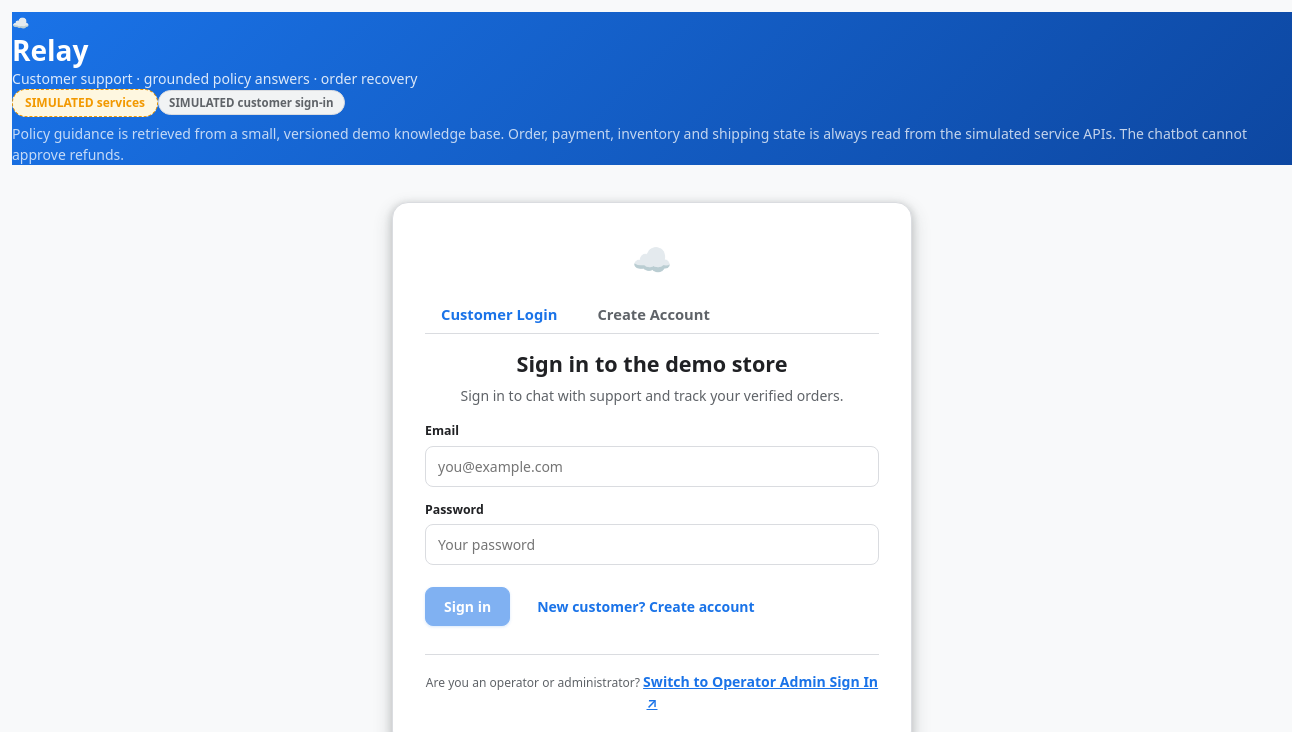
Test case: SupportApp › signs in through the simulated customer session, chats, and receives response
Expected: the heading "Sign in to the demo store" is shown, left=517, top=349, right=788, bottom=378
Type "alice@example.test" into the field labelled "Email" at {"x": 652, "y": 466}, box left=425, top=446, right=879, bottom=487
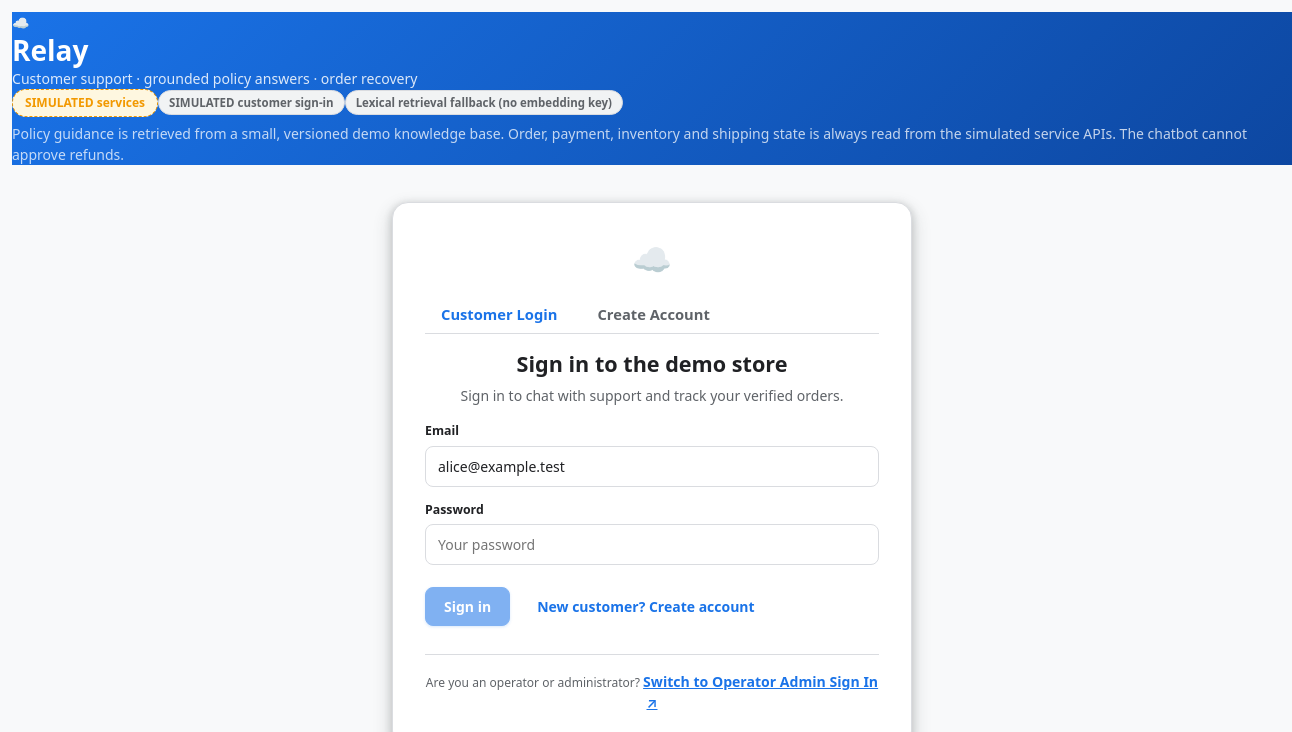
Type "demo-alice" into the password field labelled "Password" at {"x": 652, "y": 545}, box left=425, top=524, right=879, bottom=565
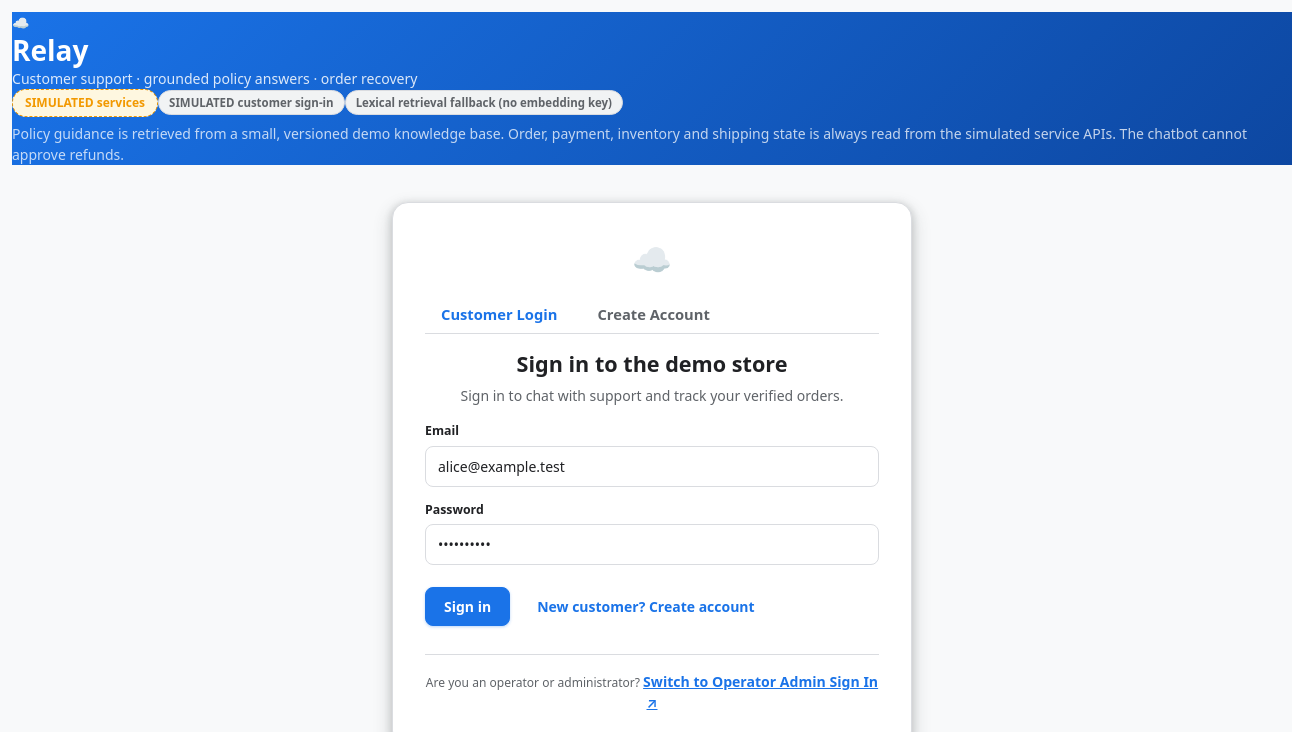
Click the button "Sign in" at {"x": 468, "y": 607}, box left=425, top=587, right=510, bottom=626
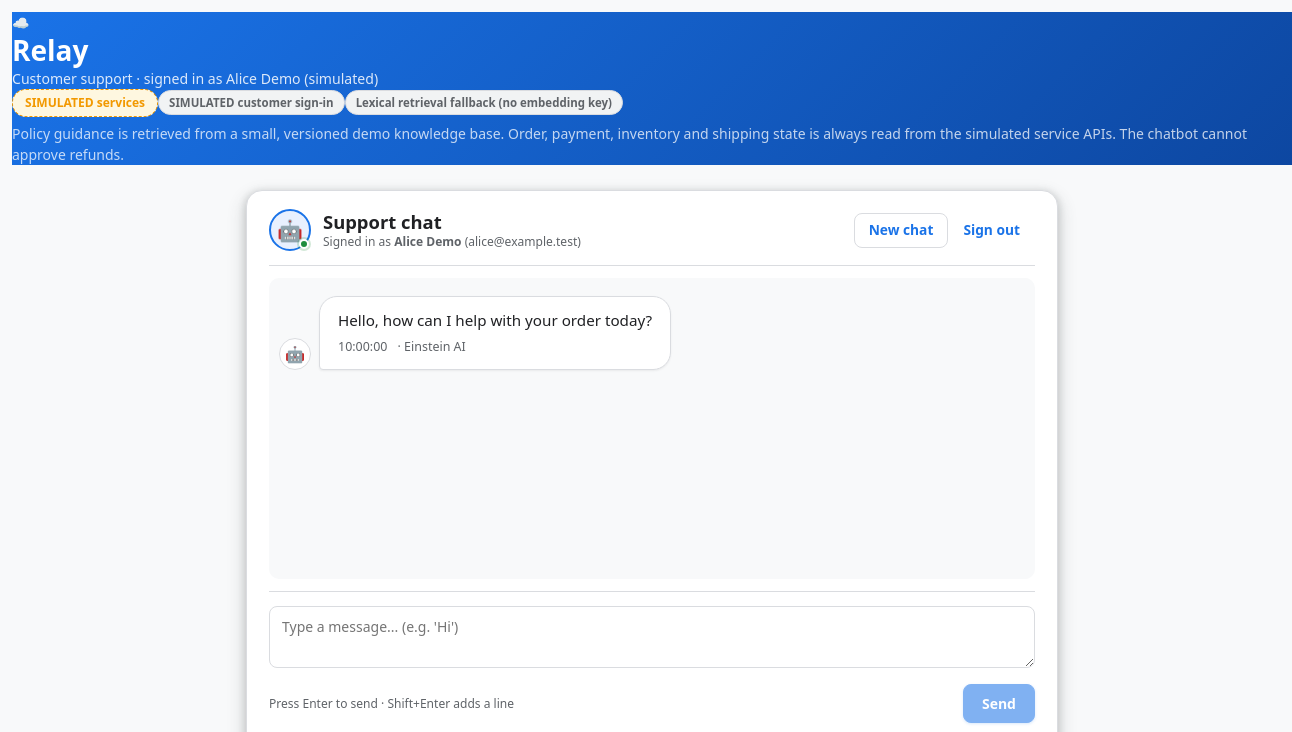
Expected: the heading "Support chat" is shown, left=323, top=209, right=442, bottom=234
Expected: the text "Customer support · signed in as Alice Demo (simulated)" is shown, left=12, top=69, right=378, bottom=88
Expected: the text box named "Message to support" is enabled
Type "My payment was deducted but order ORD-CUST1 is pending." into the text box named "Message to support" at {"x": 652, "y": 637}, box left=269, top=606, right=1035, bottom=668
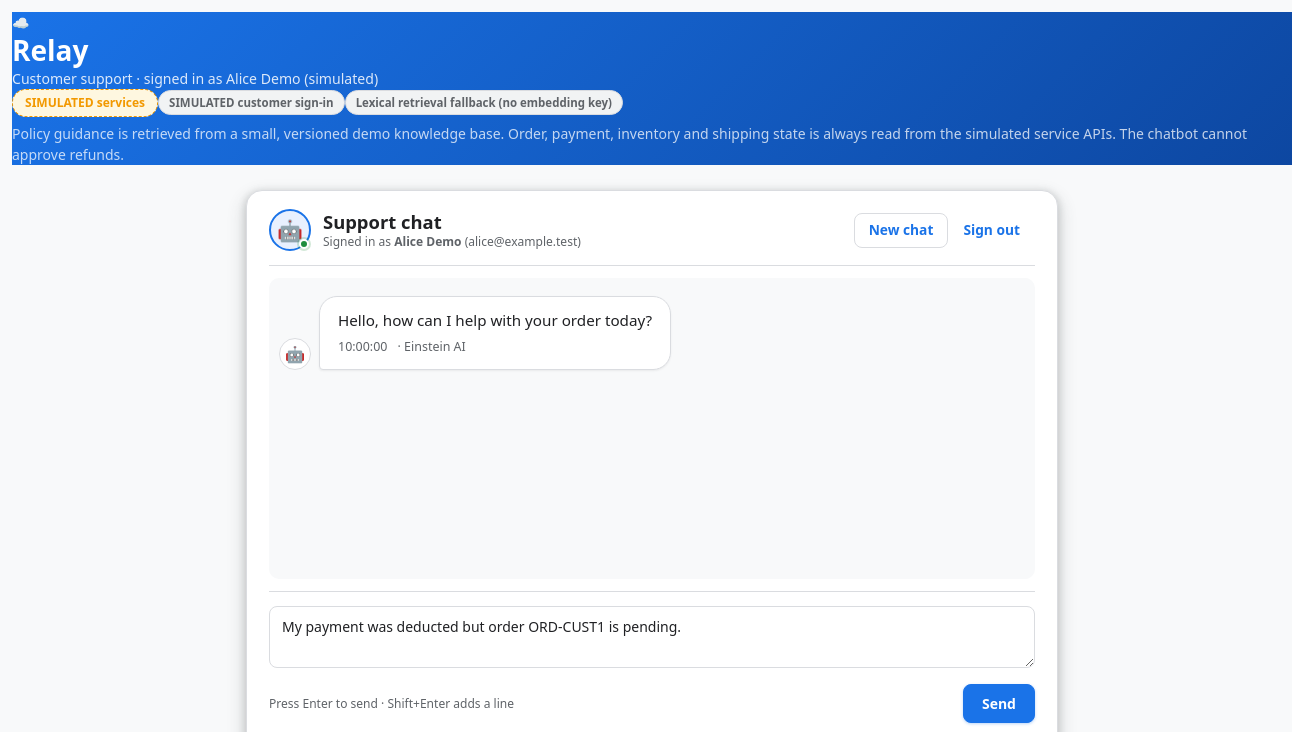
Expected: the button "Send" is enabled
Click the button "Send" at {"x": 999, "y": 704}, box left=963, top=684, right=1035, bottom=723
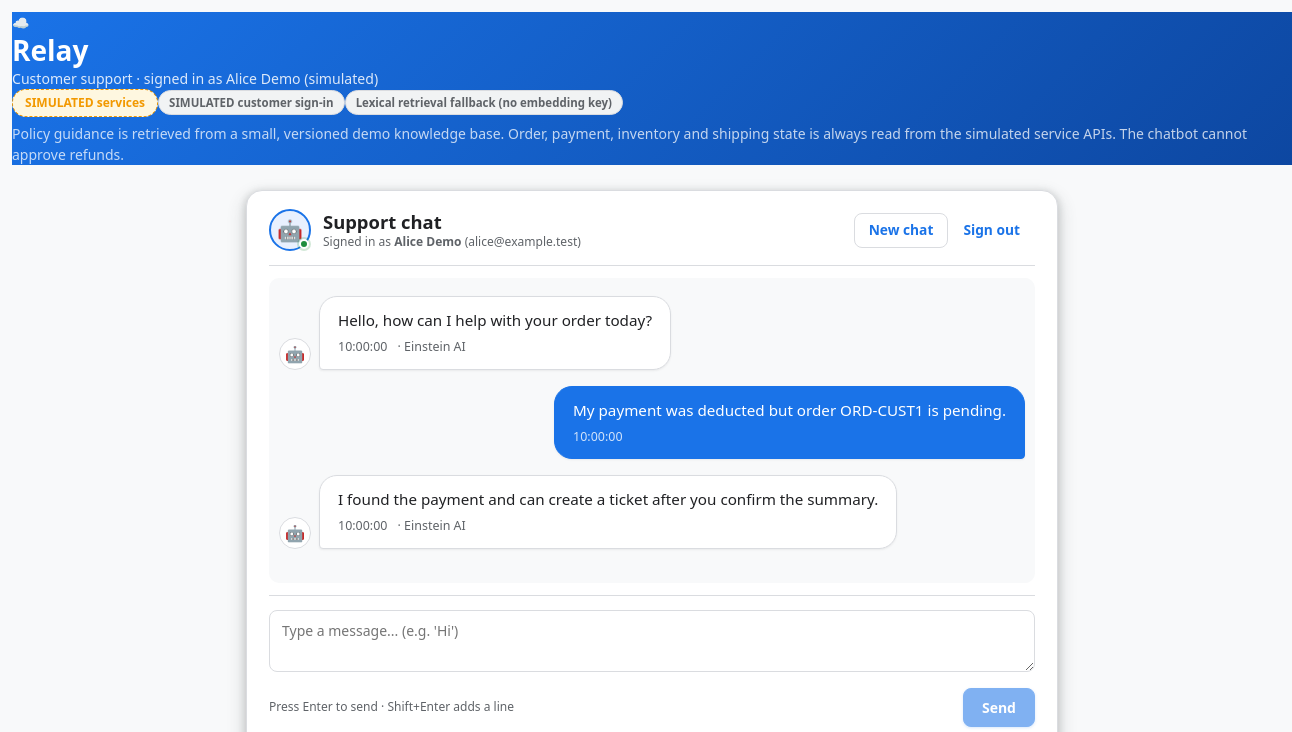
Expected: the text "I found the payment and can create a ticket after you confirm the summary." is shown, left=338, top=488, right=878, bottom=511
